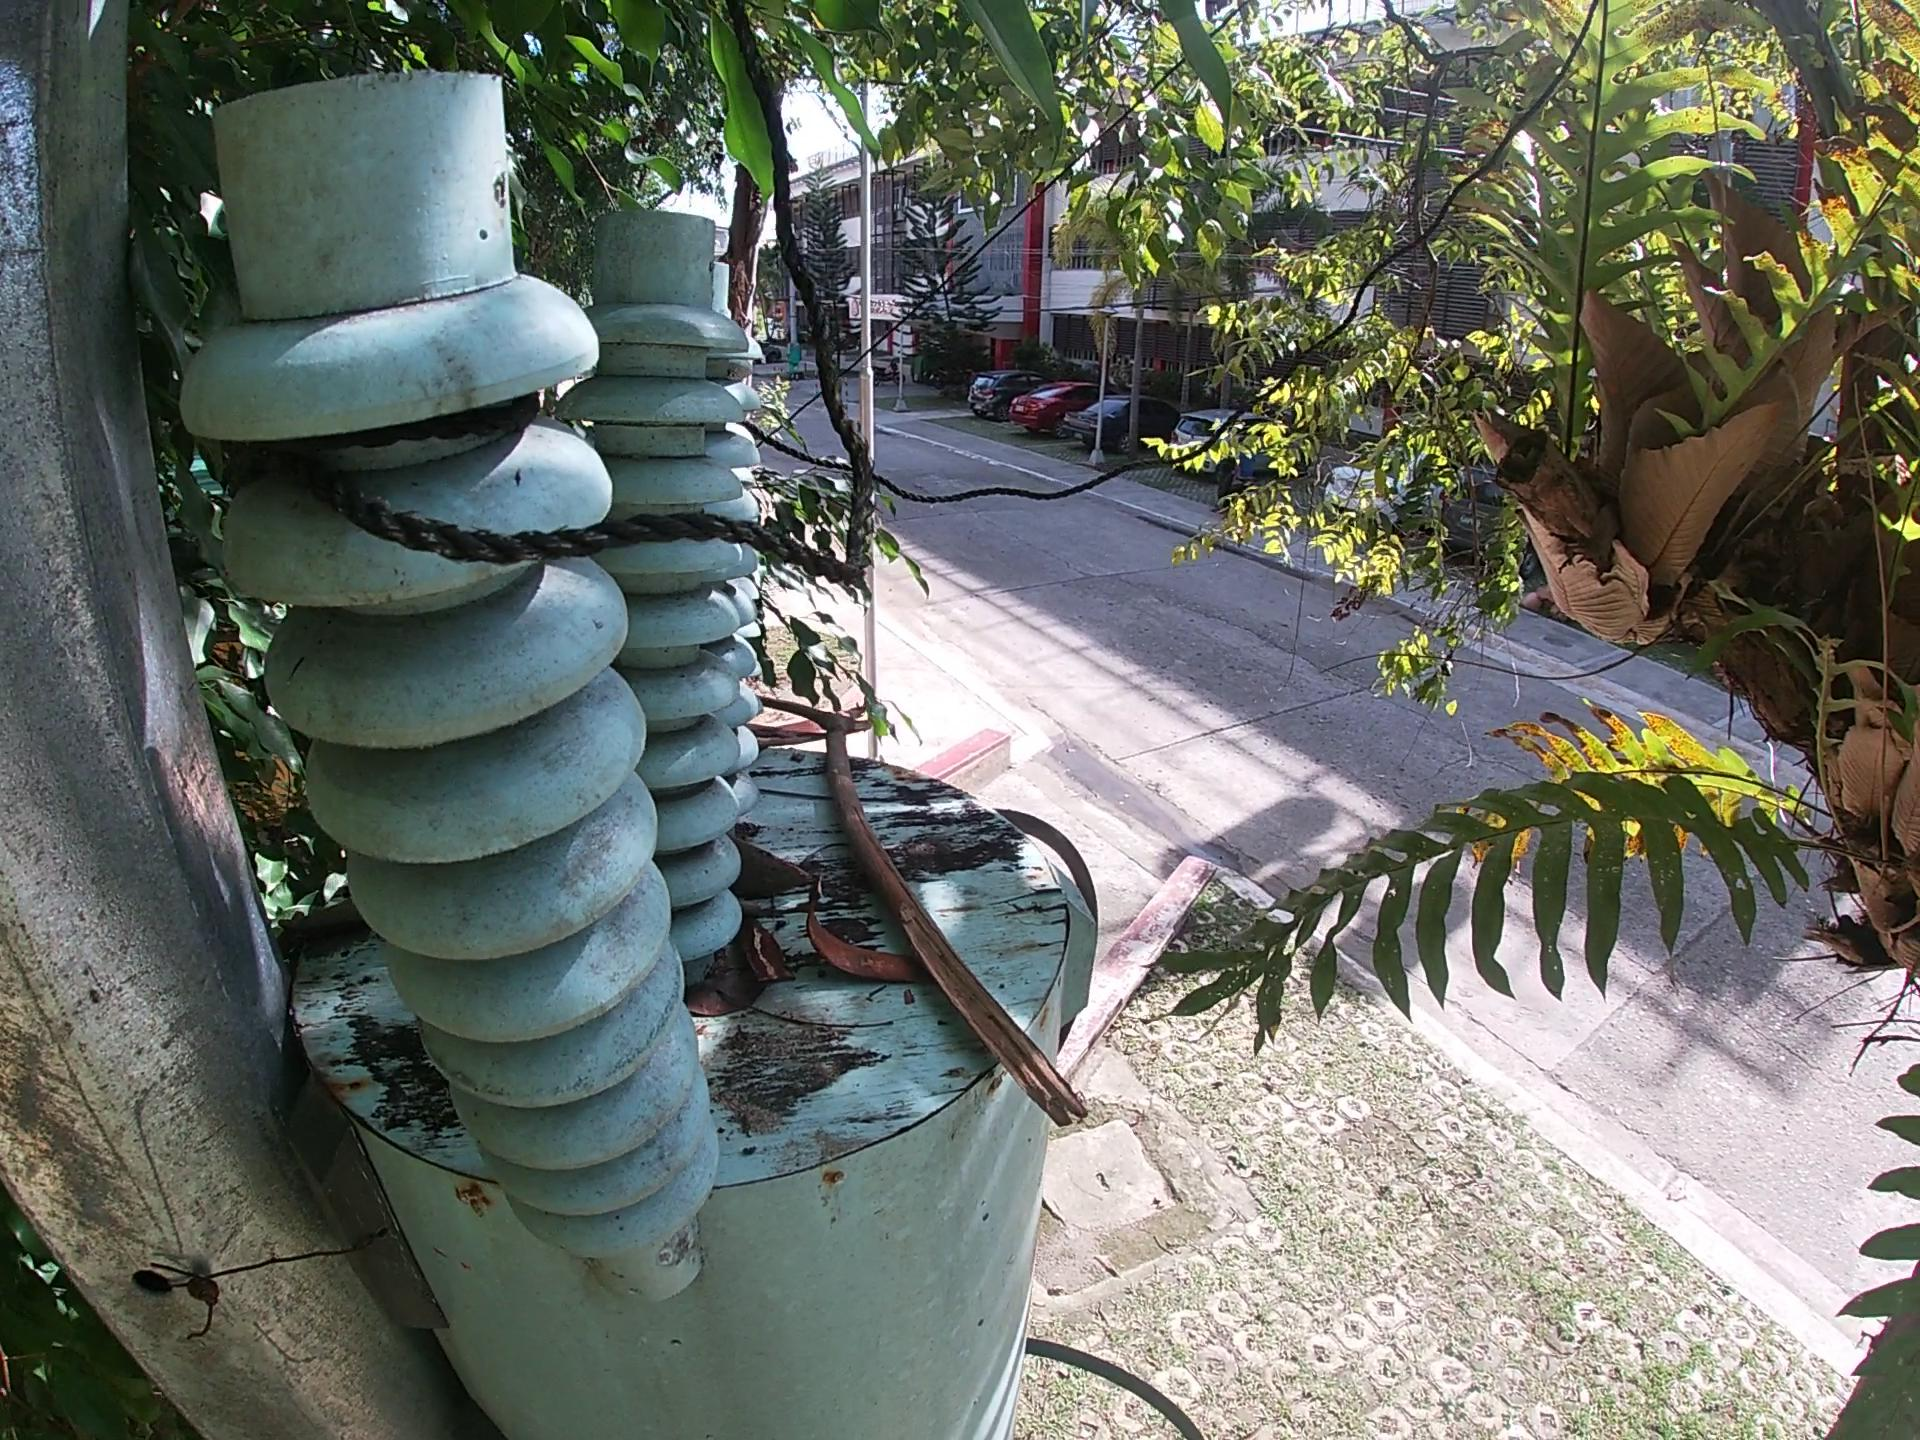leaf: (268, 895, 361, 945), (688, 976, 748, 1026)
mahogany fruit: (800, 880, 919, 985), (735, 836, 831, 898)
tree branch: (757, 700, 1110, 1137), (751, 1009, 901, 1057), (742, 917, 779, 1001), (745, 718, 822, 756), (751, 787, 841, 818), (865, 787, 943, 812), (732, 906, 791, 927)
